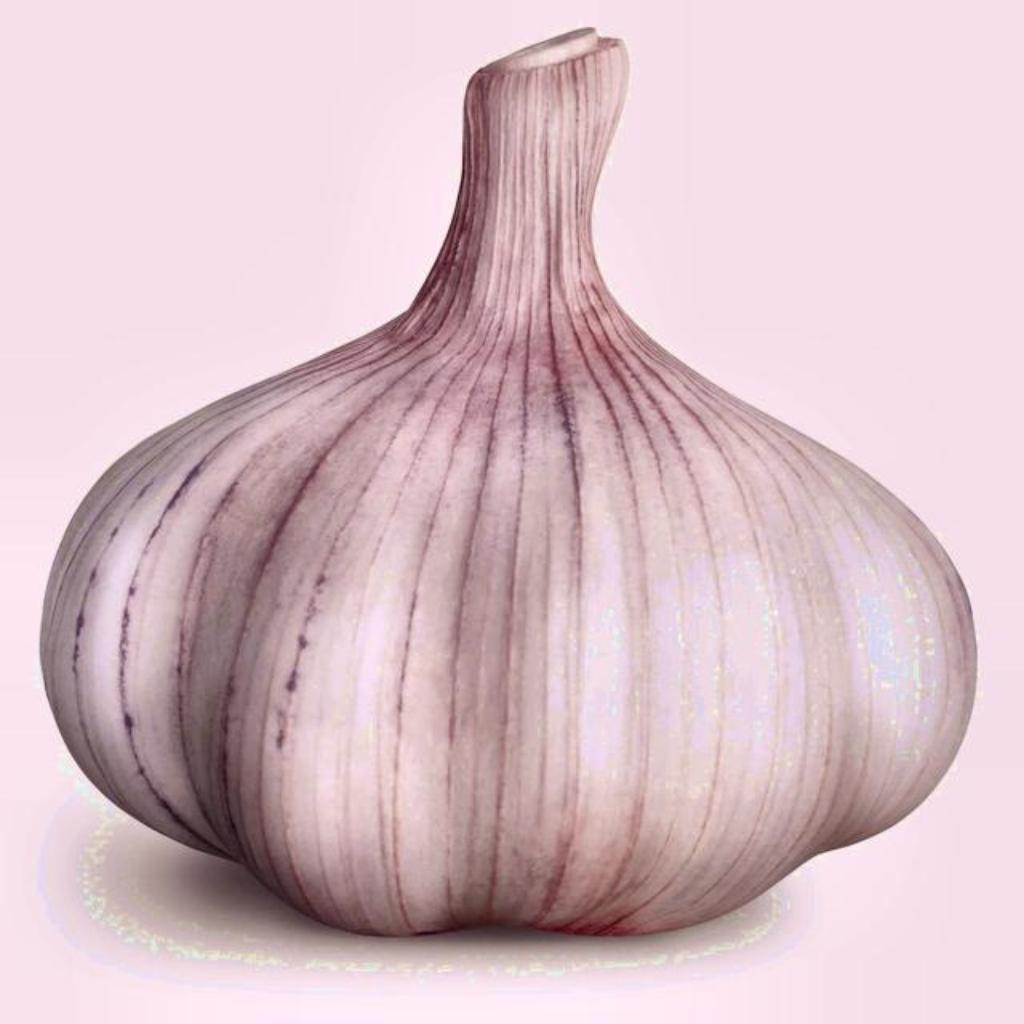garlic: (42, 30, 974, 934)
